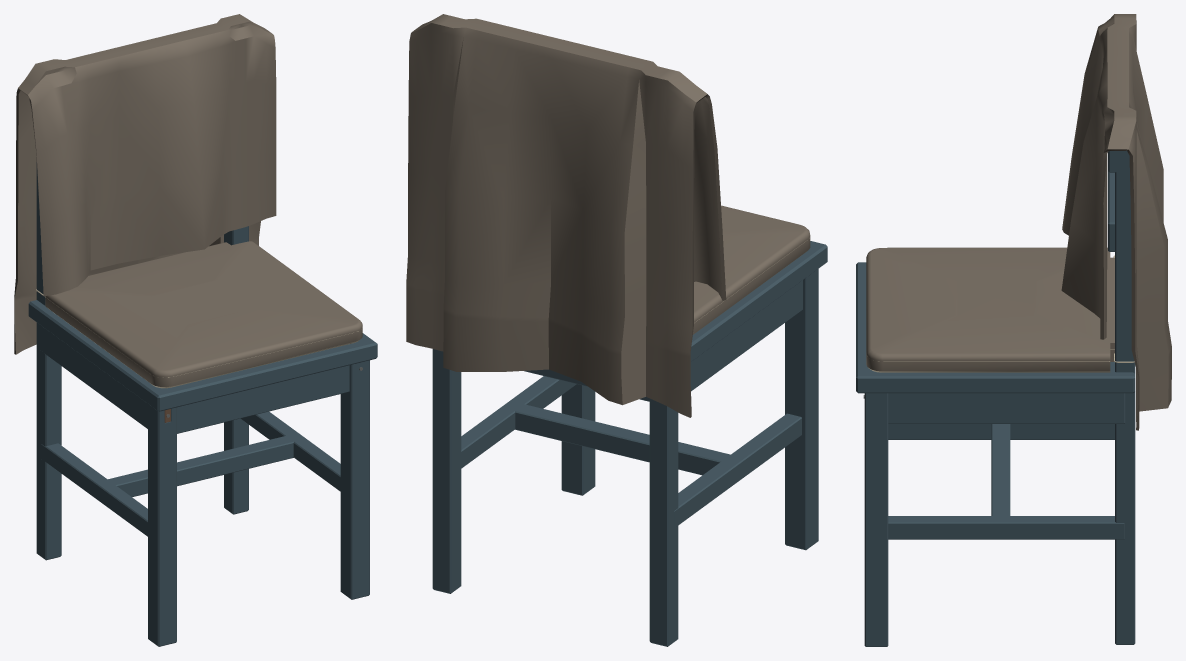
File: kitchen-chair-blue-6d6129ecb1b5.glb
3 views of the same model, side by side, from view 1: azimuth 30°, elevation 25°; view 2: azimuth 150°, elevation 25°; view 3: azimuth 270°, elevation 25° (orthographic). The views are drawn at different scales.
Parts seen in each view (by area): view 1: cover-cloth, enamel-blue, fabric, paper; view 2: cover-cloth, enamel-blue, fabric; view 3: cover-cloth, enamel-blue, fabric, paper.
Boxes of the visible parts, box(x1,y1,x2,y2) form: cover-cloth: box(14, 14, 362, 387); enamel-blue: box(28, 162, 377, 646); fabric: box(14, 88, 39, 354); paper: box(36, 289, 358, 388); cover-cloth: box(406, 14, 810, 417); enamel-blue: box(432, 241, 827, 646); fabric: box(690, 94, 726, 417); cover-cloth: box(866, 14, 1171, 428); enamel-blue: box(856, 150, 1135, 646); fabric: box(1100, 149, 1139, 430); paper: box(867, 255, 1134, 372).
Bounding box in the file's own units: 0.4473 × 0.85 × 0.4636.
